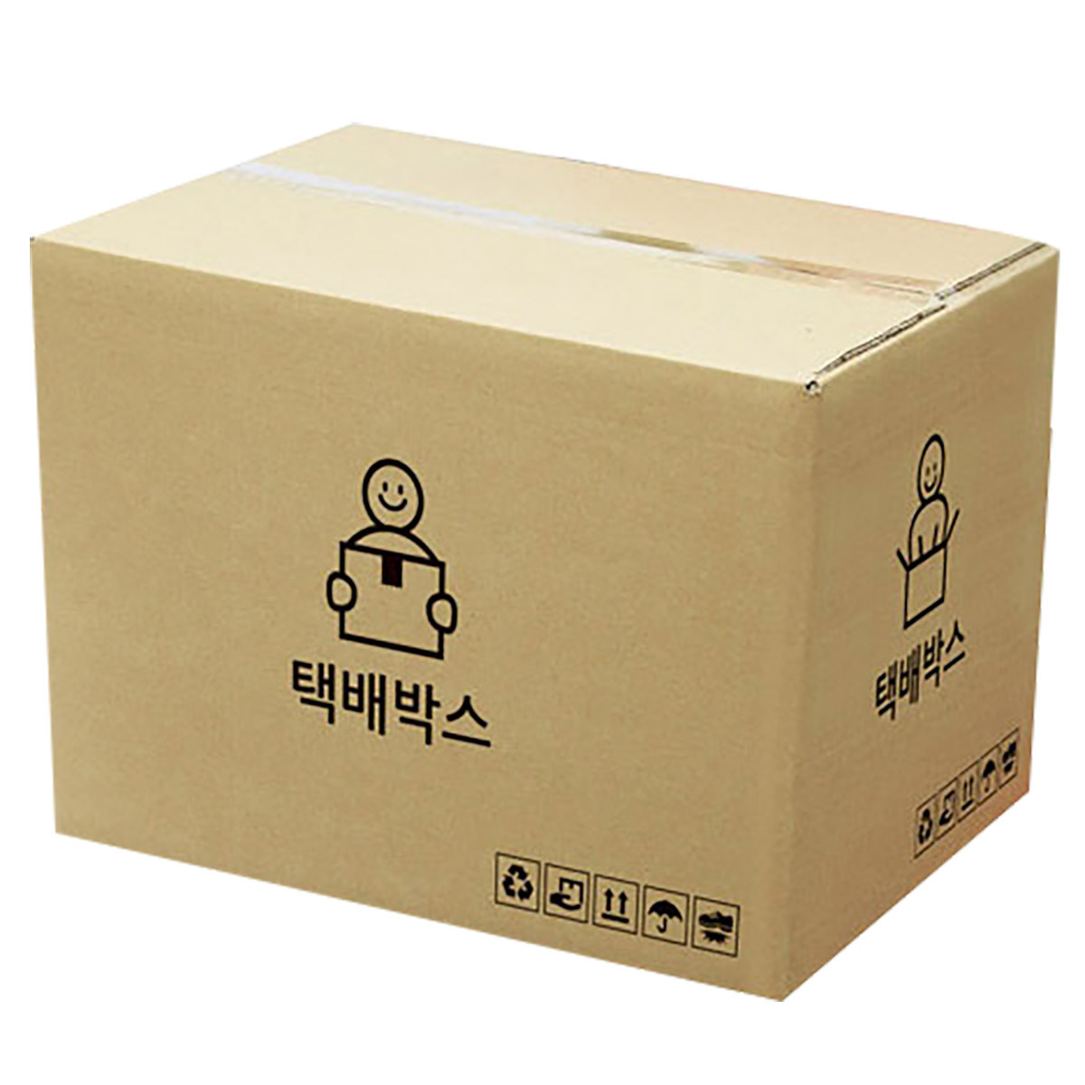undamaged: (38, 128, 1049, 1003)
